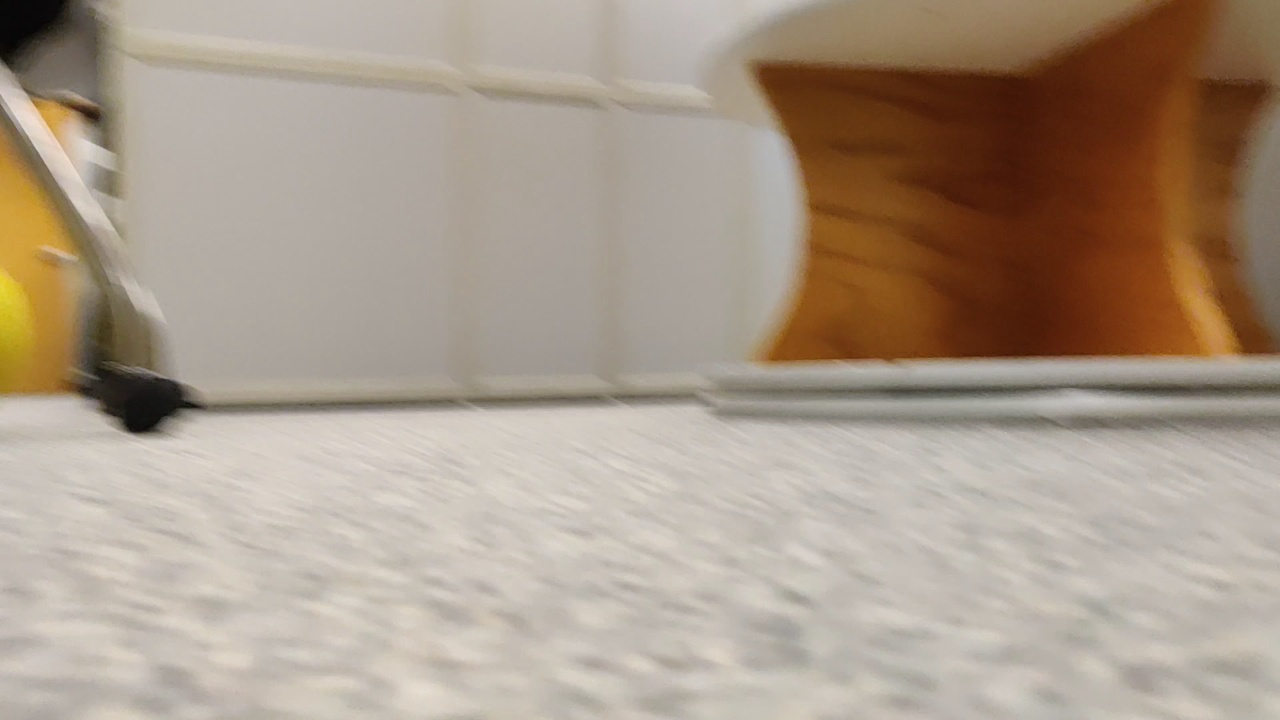Ball: (1, 260, 37, 380)
